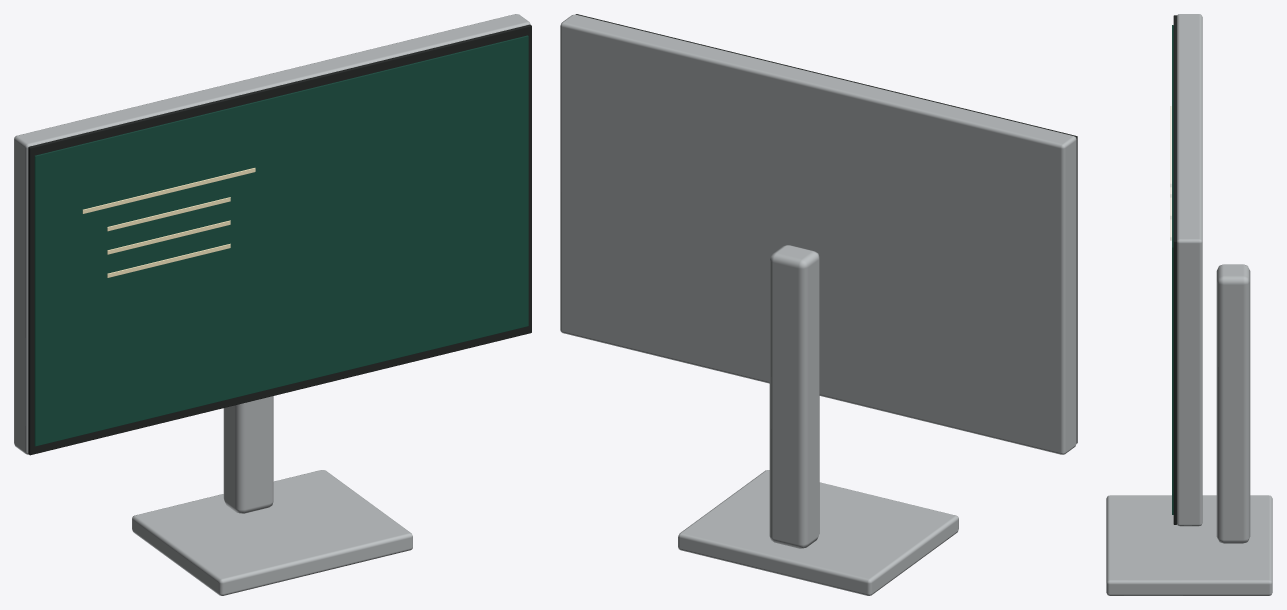
File: dell-u2725qe.glb
The picture shows the model from 3 angles, left to right: view 1: azimuth 30°, elevation 25°; view 2: azimuth 150°, elevation 25°; view 3: azimuth 270°, elevation 25°; orthographic projection. The views are drawn at different scales.
Parts seen in each view (by area): view 1: active-screen, dell-u2725qe; view 2: dell-u2725qe; view 3: dell-u2725qe, active-screen.
Boxes of the visible parts, box(x1,y1,x2,y2) form: active-screen: box(34, 35, 528, 446); dell-u2725qe: box(14, 14, 531, 595); dell-u2725qe: box(560, 14, 1077, 595); dell-u2725qe: box(1106, 14, 1272, 595); active-screen: box(1172, 25, 1173, 514).
Size of the model in its own units: 0.6124 by 0.5357 by 0.189.
